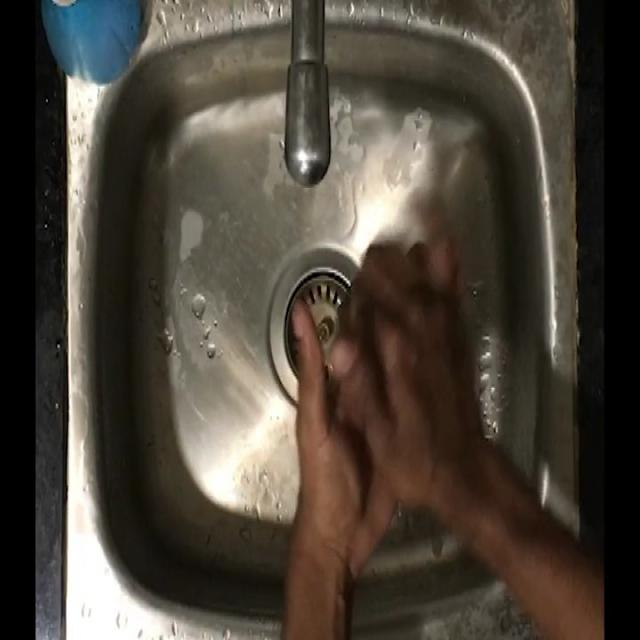step_5: (274, 213, 472, 564)
